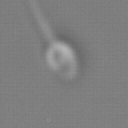normal: (18, 1, 56, 44)
